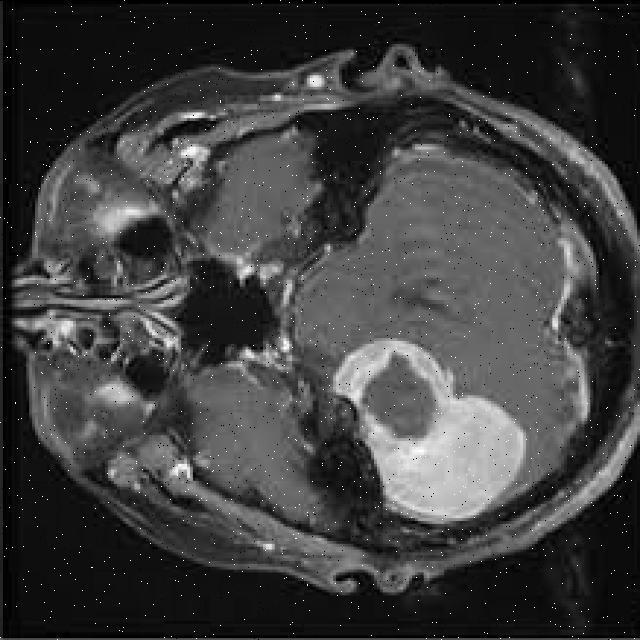Meningioma: (338, 341, 526, 522)
